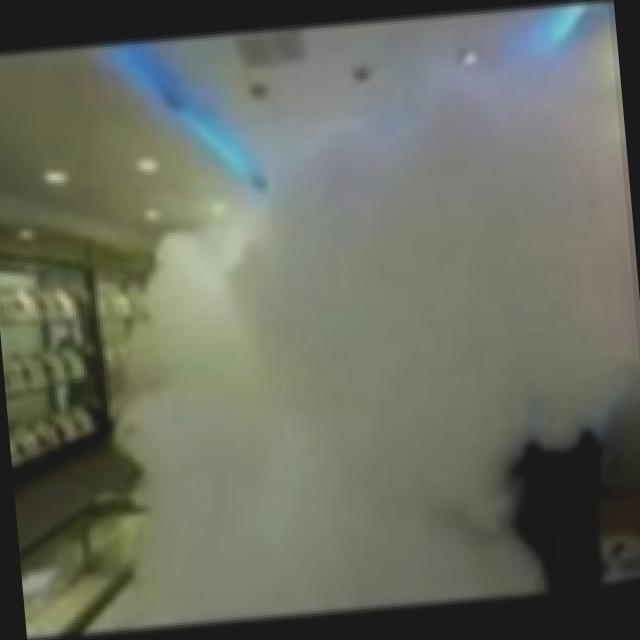smoke: (81, 13, 640, 640)
